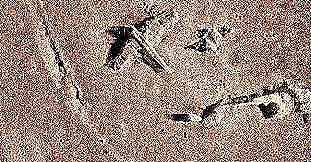aircraft: (105, 8, 179, 80)
